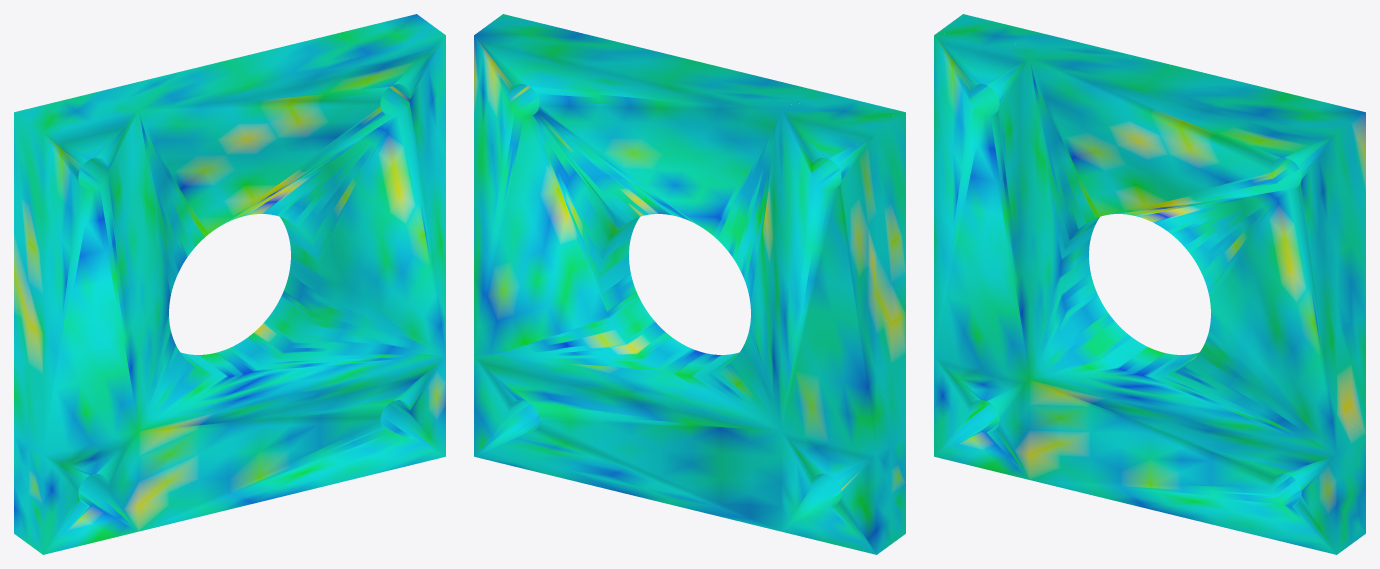
The model's file is Mounting Plate_fea_static_1.glb.
3 renders of one model, left to right at view 1: azimuth 30°, elevation 25°; view 2: azimuth 150°, elevation 25°; view 3: azimuth 330°, elevation 25°, orthographic.
Parts seen in each view (by area): view 1: FEA_Result; view 2: FEA_Result; view 3: FEA_Result.
Part boxes in pixels (box(x1,y1,x2,y2)): FEA_Result: box(14, 14, 445, 554); FEA_Result: box(474, 14, 905, 554); FEA_Result: box(934, 14, 1365, 554).
Size of the model in its own units: 0.08 by 0.08 by 0.01.
